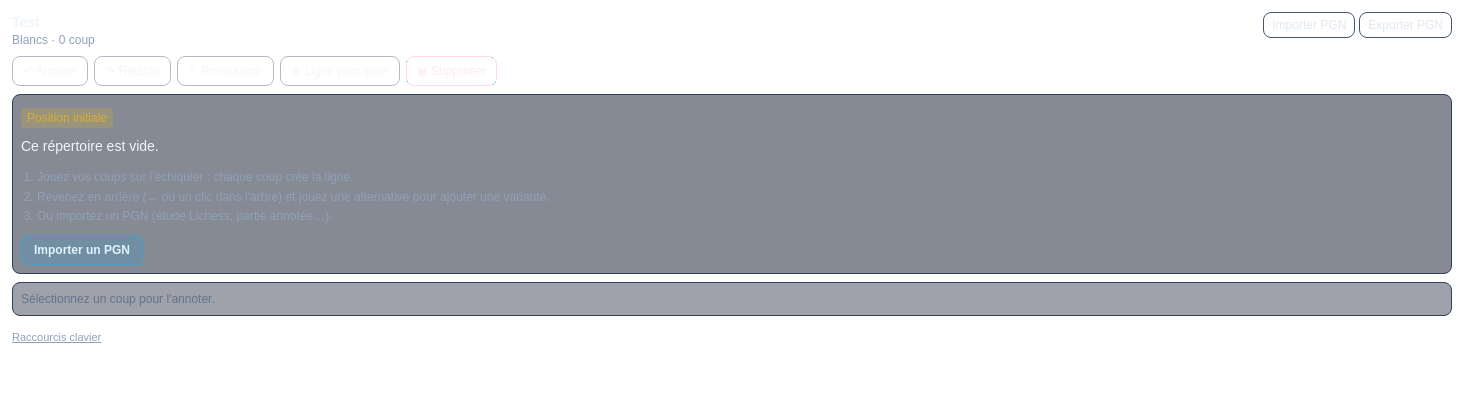
Scenario: import dans l'éditeur › ajoute les coups d'un PGN au répertoire ouvert, puis tout s'annule en une fois
Click the button "Importer PGN".
click(1309, 25)  # box [1263,12,1355,38]
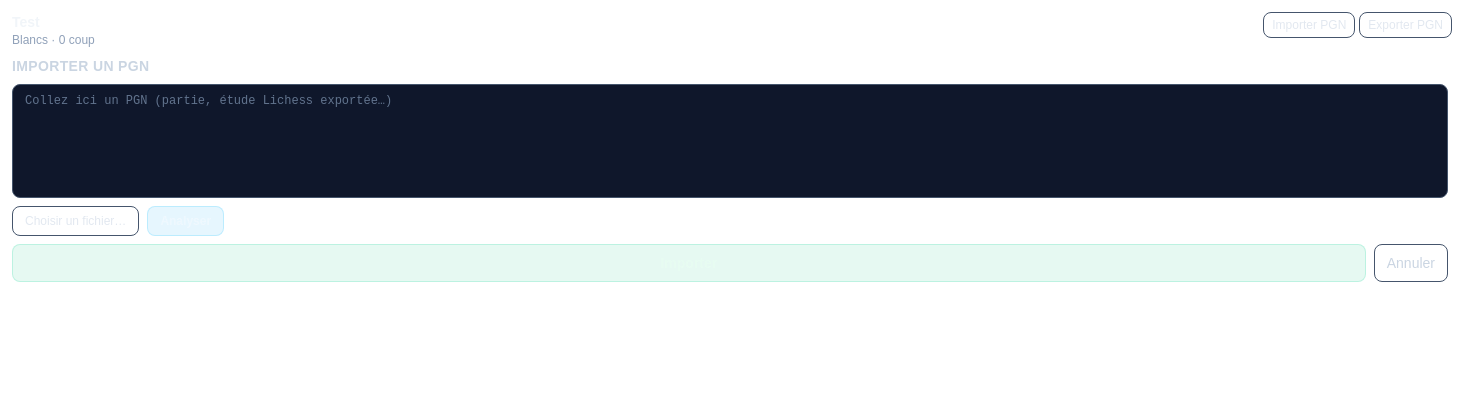
Type "[Event \"Mon 1.e4\"] [Orientation \"black\"] 1. e4 e5 (1... c5 2. Nf3) 2. Nf3 Nc6 *" into the text box named "Texte PGN".
click(730, 141); type("[Event \"Mon 1.e4\"] [Orientation \"black\"] 1. e4 e5 (1... c5 2. Nf3) 2. Nf3 Nc6 *")  # box [12,84,1448,198]
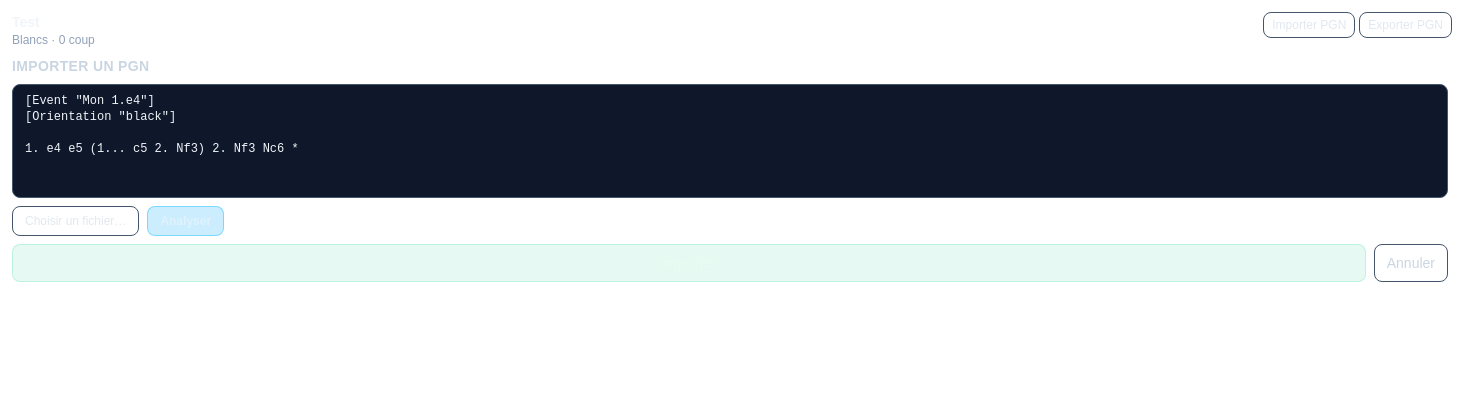
Click the button "Analyser".
click(186, 221)  # box [147,206,224,236]
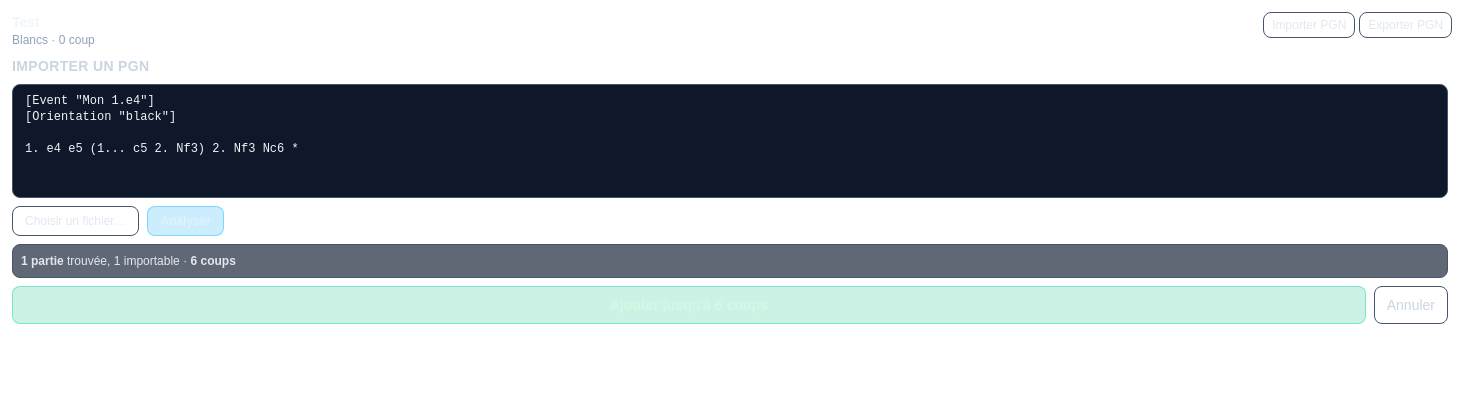
Check: the text "1 partie" is shown, box [21,254,64,268]
Click the button "Ajouter jusqu'à 6 coups".
click(689, 305)  # box [12,286,1366,324]
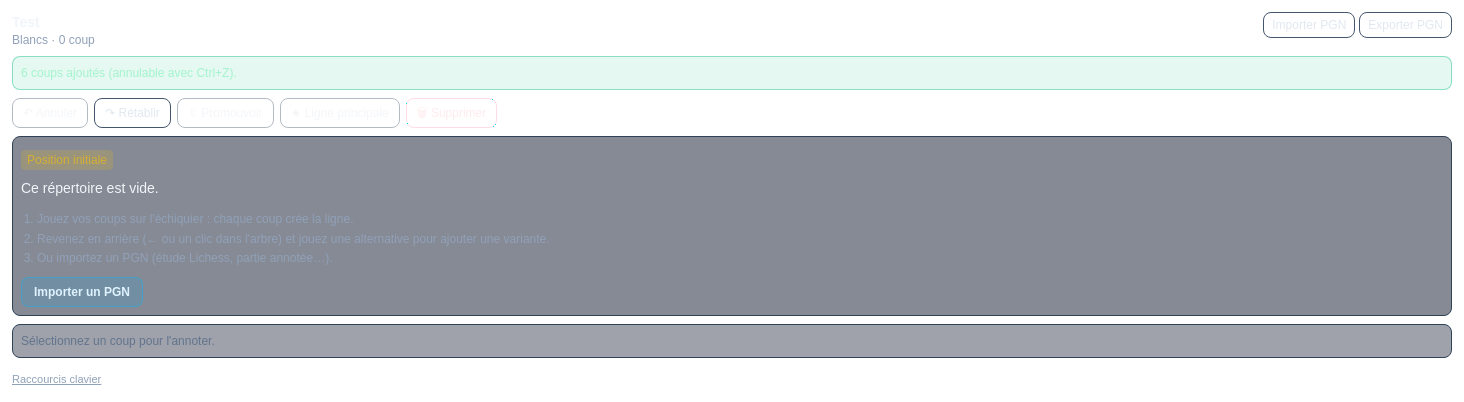
Check: the text "6 coups ajoutés (annulable avec Ctrl+Z)." is shown, box [12,56,1452,90]
Check: the button "Position initiale" is shown, box [21,150,113,170]
